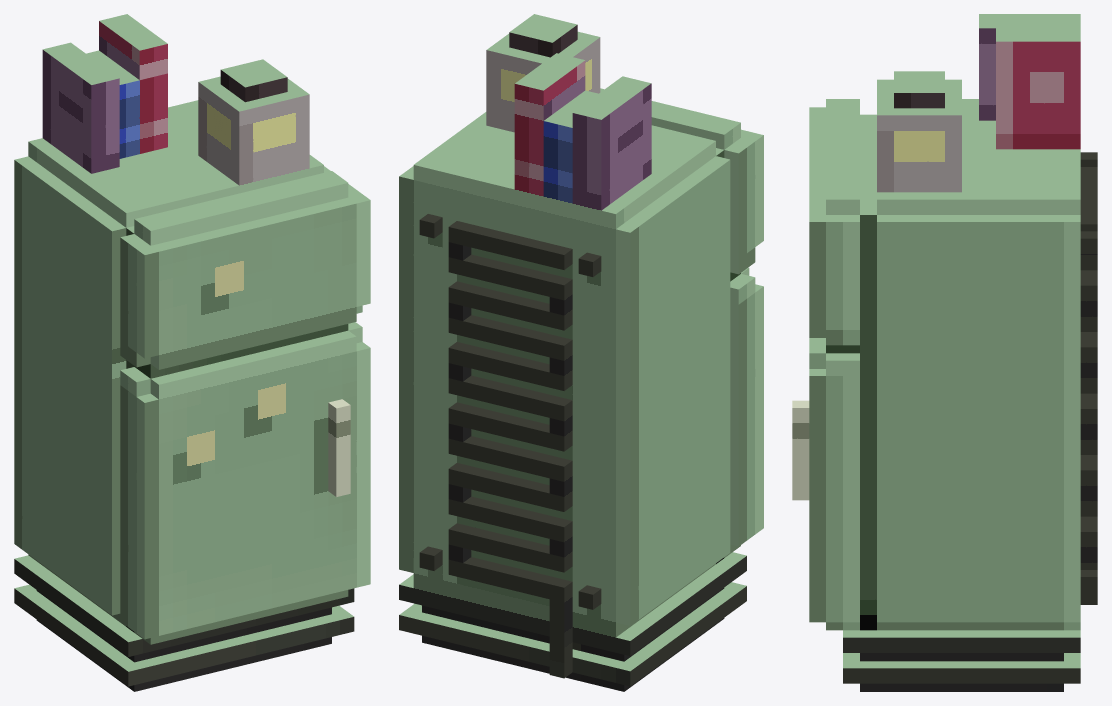
Rendered from int_fridgeao.fezao.glb.
The picture shows the model from 3 angles, left to right: view 1: azimuth 30°, elevation 25°; view 2: azimuth 150°, elevation 25°; view 3: azimuth 270°, elevation 25°; orthographic projection. The views are drawn at different scales.
Parts seen in each view (by area): view 1: INT_FRIDGEAO; view 2: INT_FRIDGEAO; view 3: INT_FRIDGEAO.
Part boxes in pixels (<box>): INT_FRIDGEAO: <box>14,14,370,691</box>; INT_FRIDGEAO: <box>399,14,763,691</box>; INT_FRIDGEAO: <box>792,14,1097,691</box>.
Size of the model in its own units: 1 by 2.44 by 1.12.
1 material, 1 textured.
